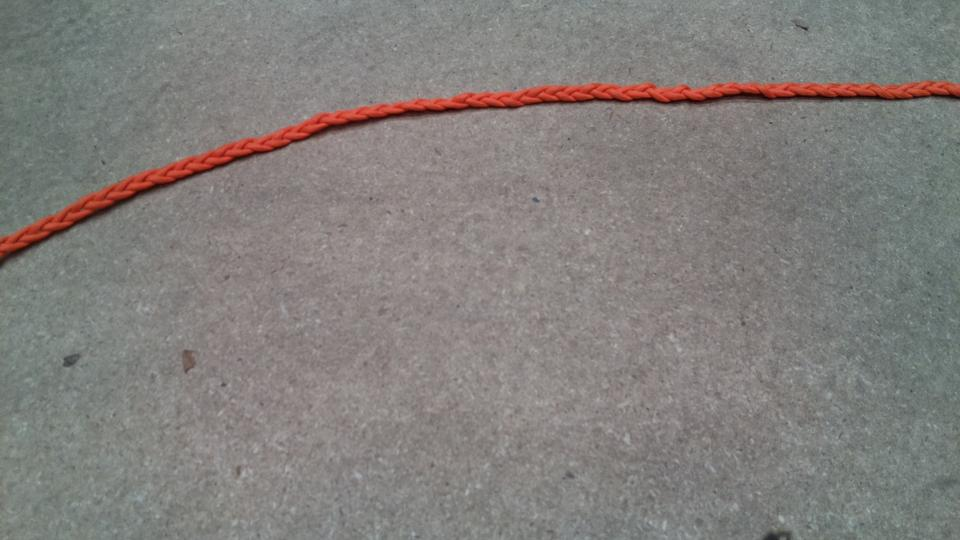rope: (1, 78, 958, 270)
